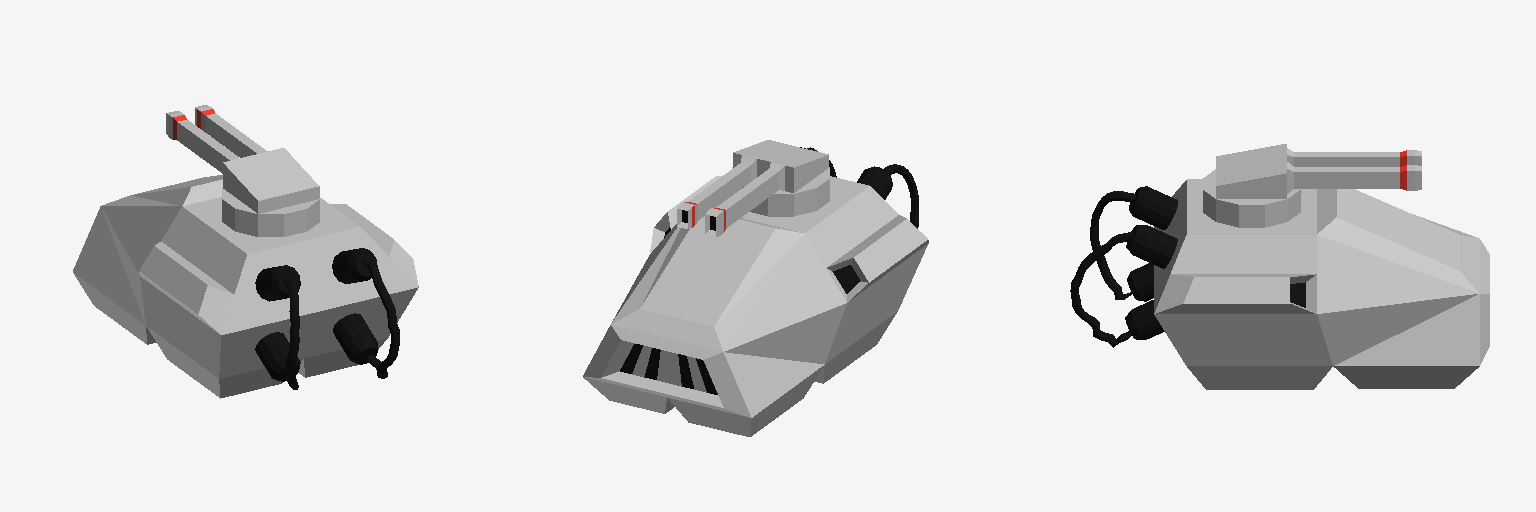
3 renders of one model, left to right at view 1: azimuth 30°, elevation 25°; view 2: azimuth 150°, elevation 25°; view 3: azimuth 270°, elevation 25°, orthographic.
Visible parts, largest first — view 1: group[number redacted], group[number redacted], group[number redacted], group[number redacted], group[number redacted], group[number redacted], group[number redacted], group[number redacted], group[number redacted]; view 2: group[number redacted], group[number redacted], group[number redacted], group[number redacted], group[number redacted]; view 3: group[number redacted], group[number redacted], group[number redacted], group[number redacted], group[number redacted], group[number redacted], group[number redacted], group[number redacted], group[number redacted].
Boxes of the visible parts, x1=… form: group[number redacted]: x1=73, y1=175, x2=418, y2=398; group[number redacted]: x1=166, y1=105, x2=319, y2=213; group[number redacted]: x1=222, y1=188, x2=319, y2=236; group[number redacted]: x1=333, y1=313, x2=377, y2=364; group[number redacted]: x1=362, y1=257, x2=399, y2=378; group[number redacted]: x1=255, y1=332, x2=300, y2=381; group[number redacted]: x1=332, y1=248, x2=377, y2=283; group[number redacted]: x1=255, y1=265, x2=300, y2=301; group[number redacted]: x1=283, y1=277, x2=299, y2=389; group[number redacted]: x1=583, y1=176, x2=928, y2=436; group[number redacted]: x1=677, y1=140, x2=828, y2=236; group[number redacted]: x1=732, y1=167, x2=829, y2=216; group[number redacted]: x1=857, y1=166, x2=892, y2=199; group[number redacted]: x1=884, y1=164, x2=918, y2=228; group[number redacted]: x1=1154, y1=179, x2=1489, y2=389; group[number redacted]: x1=1216, y1=144, x2=1421, y2=198; group[number redacted]: x1=1203, y1=169, x2=1300, y2=227; group[number redacted]: x1=1070, y1=231, x2=1133, y2=347; group[number redacted]: x1=1126, y1=225, x2=1177, y2=268; group[number redacted]: x1=1129, y1=186, x2=1177, y2=229; group[number redacted]: x1=1090, y1=191, x2=1135, y2=299; group[number redacted]: x1=1125, y1=300, x2=1164, y2=339; group[number redacted]: x1=1127, y1=263, x2=1153, y2=301.
Size of the model in its own units: 0.5153 by 0.443 by 0.8577.